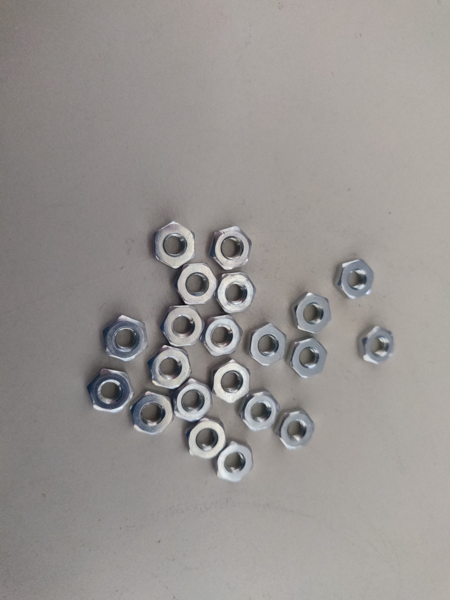nut: (102, 314, 148, 362), (151, 220, 195, 268), (86, 369, 134, 412), (208, 226, 252, 269), (162, 304, 205, 347), (130, 392, 174, 434), (211, 359, 251, 403), (175, 264, 217, 305), (200, 315, 241, 357), (150, 347, 191, 389), (237, 390, 279, 431), (213, 440, 254, 482), (247, 324, 287, 367), (184, 418, 226, 458), (334, 257, 373, 300), (293, 291, 331, 335), (217, 272, 256, 314), (275, 410, 315, 450), (290, 337, 328, 379), (174, 380, 212, 422), (357, 327, 393, 364)
